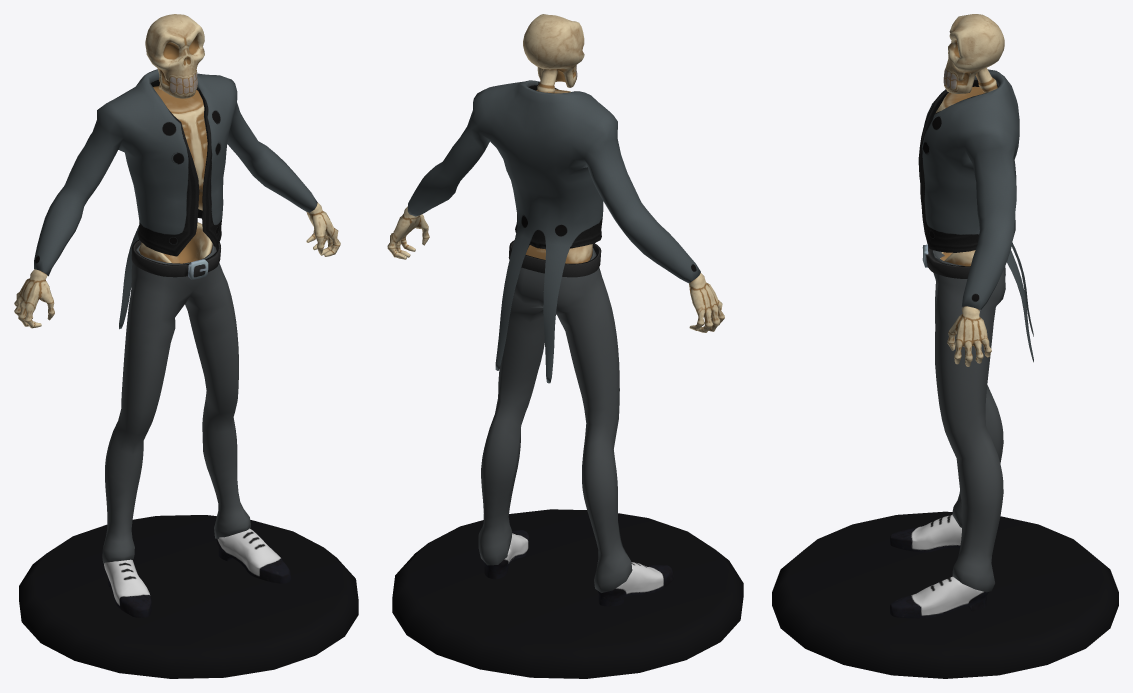
The picture shows the model from 3 angles, left to right: view 1: azimuth 30°, elevation 25°; view 2: azimuth 150°, elevation 25°; view 3: azimuth 270°, elevation 25°; orthographic projection. The views are drawn at different scales.
Visible parts, largest first — view 1: Clothing_low, Socle_low, Skeleton_low, Shoses_low, Belt_low; view 2: Clothing_low, Socle_low, Skeleton_low, Shoses_low, Belt_low; view 3: Socle_low, Clothing_low, Skeleton_low, Shoses_low, Belt_low.
Part boxes in pixels (box(x1,y1,x2,y2)): Clothing_low: box(34, 69, 317, 563); Socle_low: box(19, 515, 358, 678); Skeleton_low: box(14, 14, 340, 328); Shoses_low: box(104, 528, 291, 617); Belt_low: box(131, 239, 220, 279); Clothing_low: box(407, 80, 700, 592); Socle_low: box(392, 509, 743, 678); Skeleton_low: box(387, 14, 724, 332); Shoses_low: box(482, 530, 673, 606); Belt_low: box(508, 240, 601, 277); Socle_low: box(772, 511, 1118, 678); Clothing_low: box(918, 69, 1033, 592); Skeleton_low: box(935, 14, 1004, 366); Shoses_low: box(890, 514, 988, 618); Belt_low: box(922, 244, 970, 278).
Bounding box in the file's own units: 109 × 190 × 102.
Materials: 1 (1 with a texture image).
